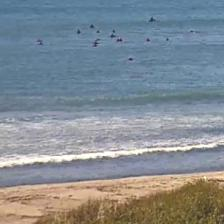surfer: (116, 38, 124, 44), (36, 39, 44, 45), (148, 17, 155, 23), (92, 41, 98, 47), (109, 34, 116, 39), (190, 30, 198, 34), (76, 28, 81, 34), (128, 57, 134, 61), (89, 24, 95, 28), (166, 37, 170, 42), (146, 38, 150, 43), (112, 30, 116, 34), (96, 30, 101, 33)
